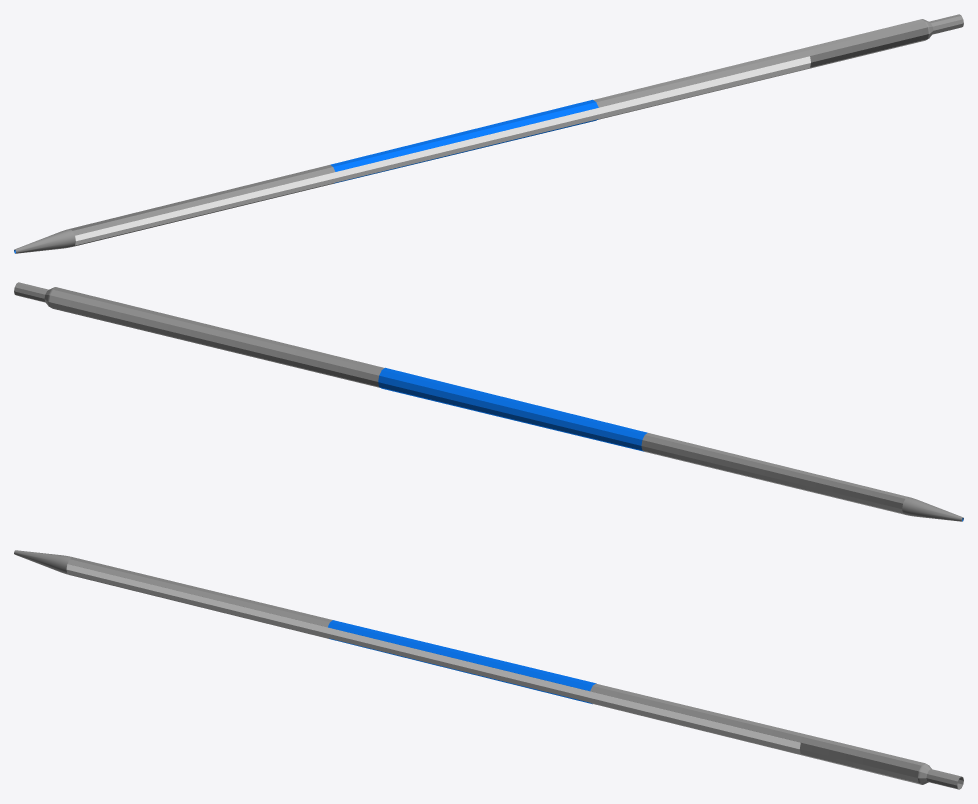
File: SM_移液管.FBX
The picture shows the model from 3 angles, top to bottom: view 1: azimuth 30°, elevation 25°; view 2: azimuth 150°, elevation 25°; view 3: azimuth 330°, elevation 25°; orthographic projection.
Visible parts, largest first — view 1: SM_移液管; view 2: SM_移液管; view 3: SM_移液管.
Part boxes in pixels (x1,y1,x2,y2): SM_移液管: (14, 14, 963, 253); SM_移液管: (14, 282, 963, 521); SM_移液管: (14, 550, 963, 789).
Size of the model in its own units: 245 by 4.74 by 5.03.
